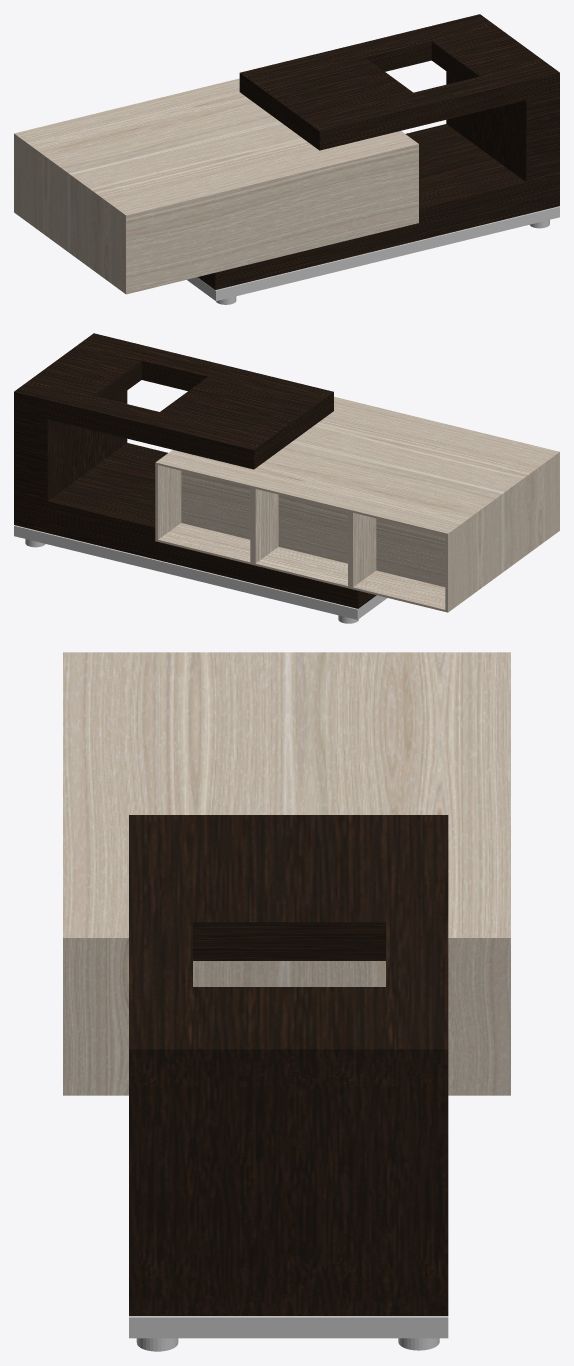
The model's file is CoffeeTable.fbx.
The picture shows the model from 3 angles, top to bottom: view 1: azimuth 30°, elevation 25°; view 2: azimuth 150°, elevation 25°; view 3: azimuth 270°, elevation 25°; orthographic projection. The views are drawn at different scales.
Parts seen in each view (by area): view 1: TableModel; view 2: TableModel; view 3: TableModel.
Part boxes in pixels (left/top/right/bottom): TableModel: left=14, top=14, right=559, bottom=304; TableModel: left=14, top=333, right=559, bottom=623; TableModel: left=63, top=652, right=510, bottom=1351.
Size of the model in its own units: 650 by 212 by 280.
